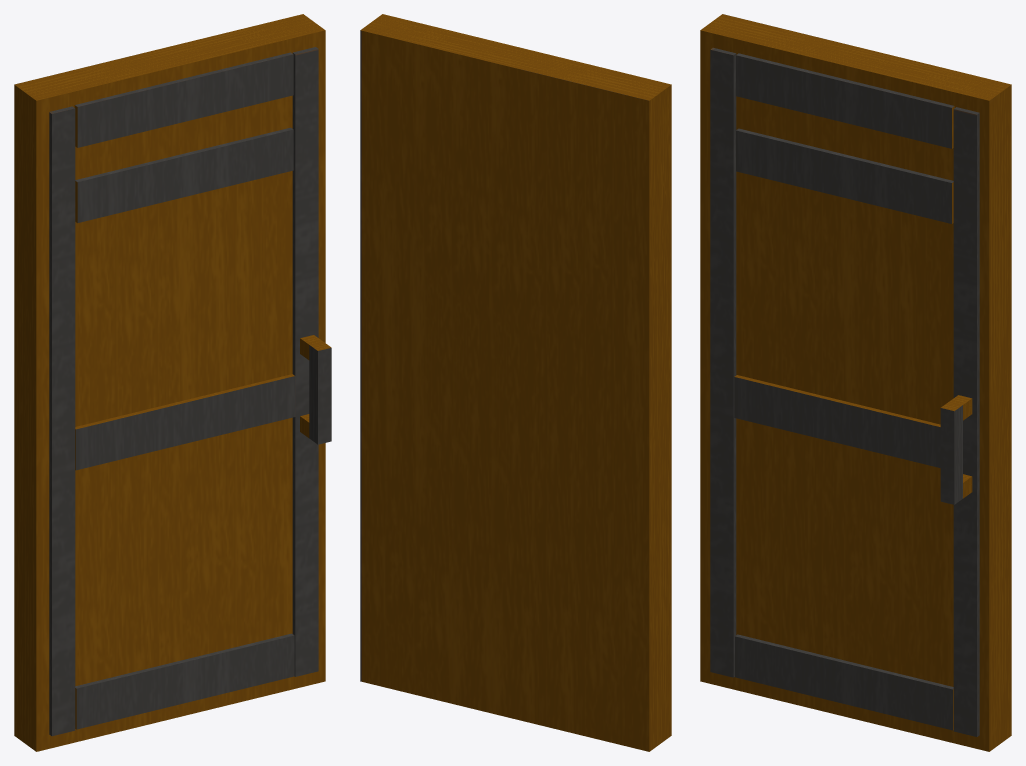
File: door_left.obj
The picture shows the model from 3 angles, left to right: view 1: azimuth 30°, elevation 25°; view 2: azimuth 150°, elevation 25°; view 3: azimuth 330°, elevation 25°; orthographic projection.
Parts seen in each view (by area): view 1: 立方体.005; view 2: 立方体.005; view 3: 立方体.005.
Part boxes in pixels (bbox=[...]): 立方体.005: bbox=[14, 14, 331, 751]; 立方体.005: bbox=[360, 14, 671, 751]; 立方体.005: bbox=[700, 14, 1011, 751].
Bounding box in the file's own units: 68.88 × 148 × 17.69.
1 material, 1 textured.
